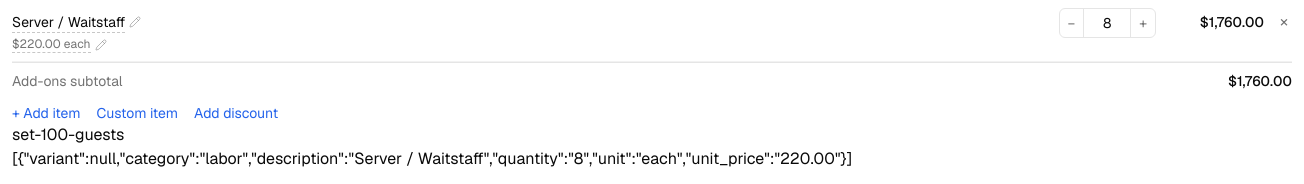
AddOnItemsEditor — the chosen-lines card › AC2: the stepper moves the line total and the subtotal without a save
The image size is (1304, 184).
What coordinates should you click on to do the following:
click the button named "Increase quantity"
I would click on:
 (1143, 23)
Its box is [1131,9,1155,37].
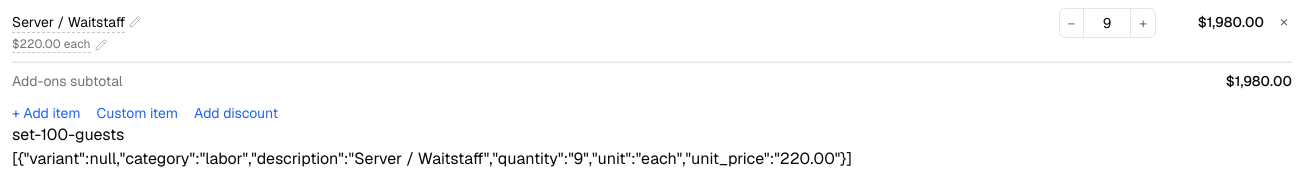
Expected: the number field named "Quantity" holds "9", [1083,9,1131,37]
Expected: the 1st text "$1,980.00" is shown, [1198,13,1264,31]
What coordinates should you click on to do the following:
click the button named "Decrease quantity"
I would click on:
 (1072, 23)
Its box is [1060,9,1083,37].
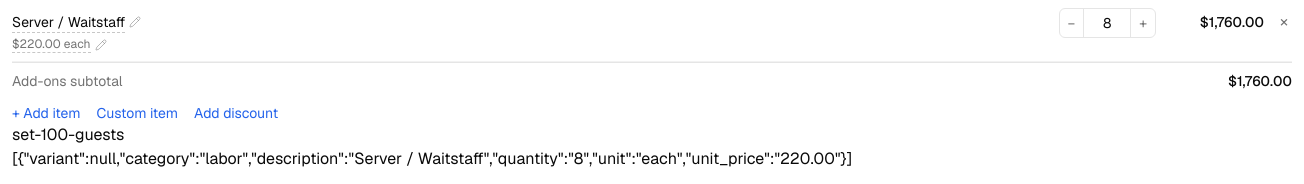
Expected: the number field named "Quantity" holds "8", [1083,9,1131,37]
